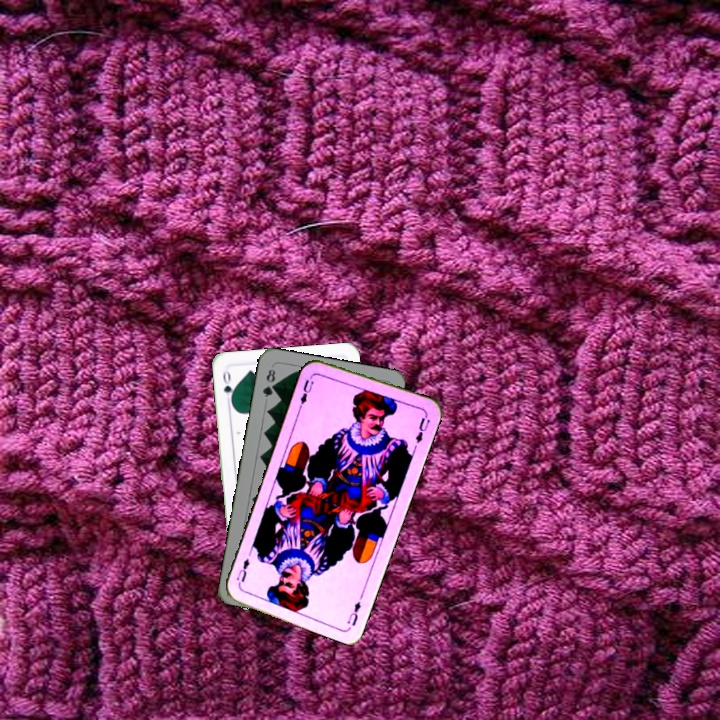EU: (296, 370, 318, 410), (343, 597, 364, 628)
G8: (258, 365, 278, 400)
GO: (219, 366, 237, 407)
